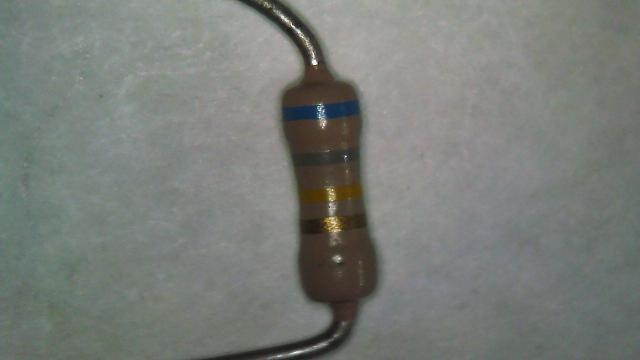blue: (282, 100, 360, 121)
gold: (303, 214, 367, 234)
grey: (293, 147, 360, 166)
resistor: (256, 56, 395, 326)
yellow: (300, 183, 362, 204)
